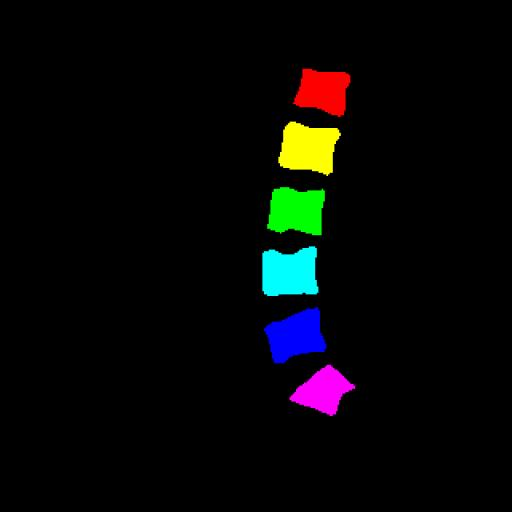L1: (294, 69, 350, 116)
L2: (278, 122, 341, 175)
L3: (267, 187, 325, 234)
L4: (262, 247, 318, 296)
L5: (264, 308, 326, 362)
S1: (290, 365, 355, 416)
